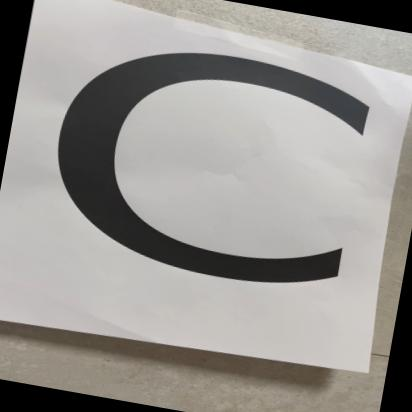seat: (5, 0, 412, 369)
